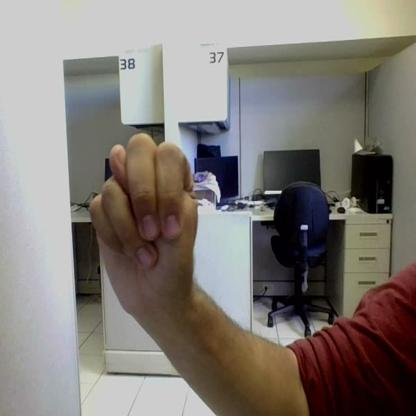N: (92, 133, 196, 302)
